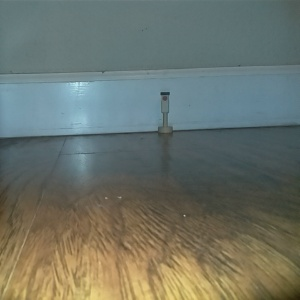traffic light red: (156, 89, 173, 135)
